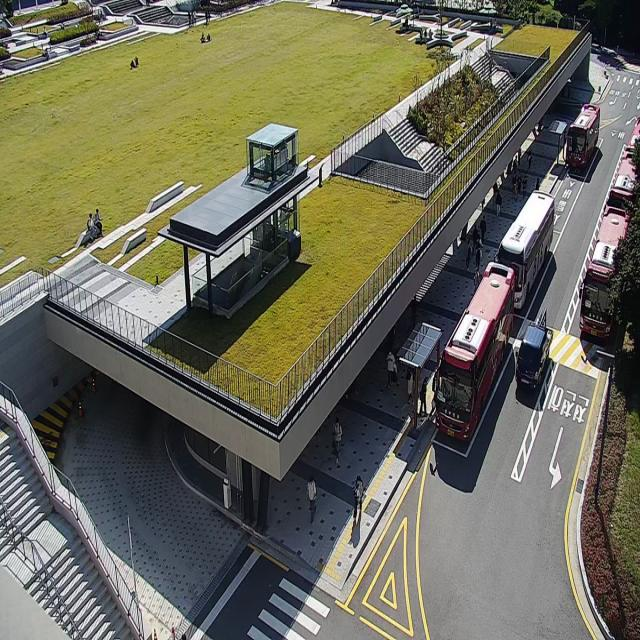queue: (412, 328, 444, 436)
